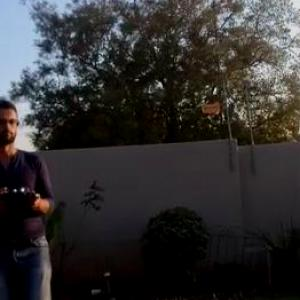follow: (1, 95, 61, 299)
